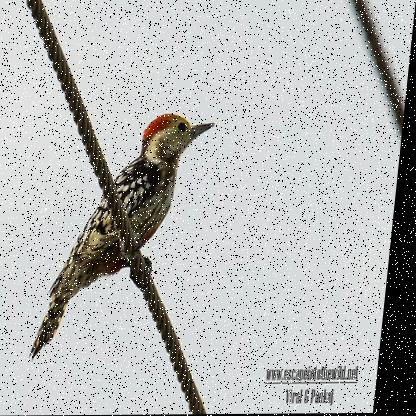Burung: (36, 114, 217, 359)
